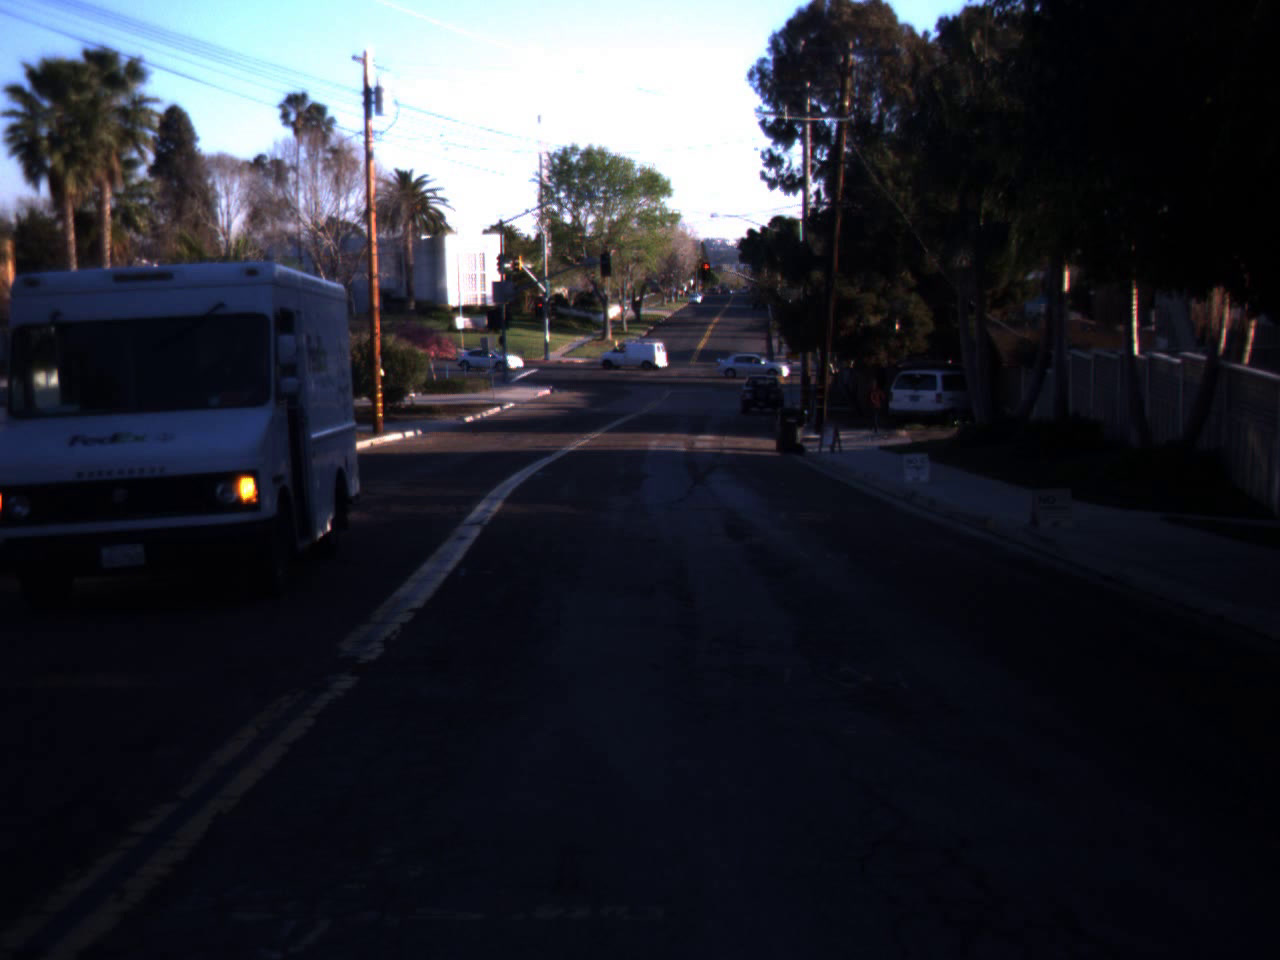stop: (699, 262, 714, 280)
